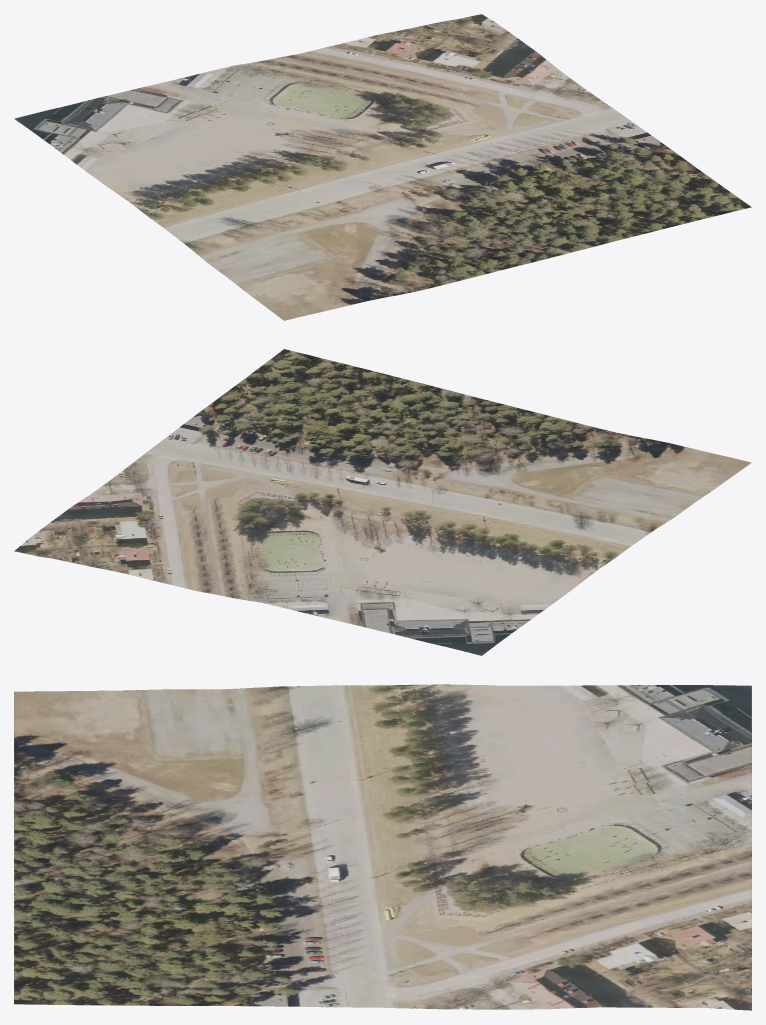
The model's file is CM_Terrain_24488820_6819180.fbx.
3 views of the same model, one above another, from view 1: azimuth 30°, elevation 25°; view 2: azimuth 150°, elevation 25°; view 3: azimuth 270°, elevation 25° (orthographic). The views are drawn at different scales.
Visible parts, largest first — view 1: CM_Terrain_24488820_6819180_LOD0; view 2: CM_Terrain_24488820_6819180_LOD0; view 3: CM_Terrain_24488820_6819180_LOD0.
Part boxes in pixels (bbox=[...]): CM_Terrain_24488820_6819180_LOD0: bbox=[14, 14, 751, 320]; CM_Terrain_24488820_6819180_LOD0: bbox=[14, 349, 751, 655]; CM_Terrain_24488820_6819180_LOD0: bbox=[14, 684, 751, 1010].
Size of what is drawn, in the model's own units: 205 by 4.86 by 205.
